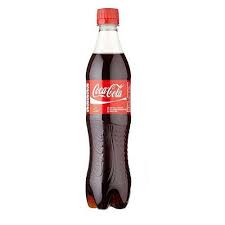coca_cola_bottle: (84, 8, 132, 210)
